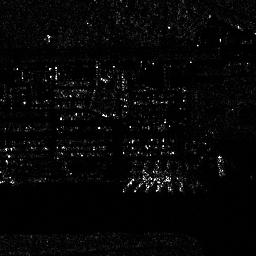ship: (216, 155, 227, 176)
